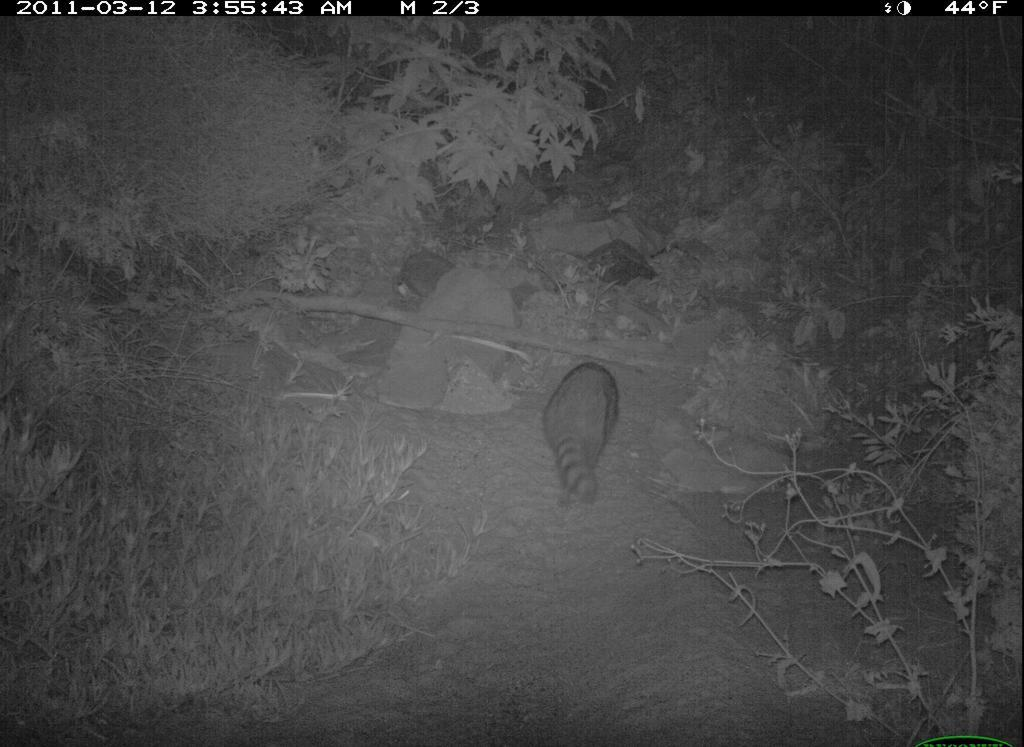raccoon: (534, 355, 641, 520)
